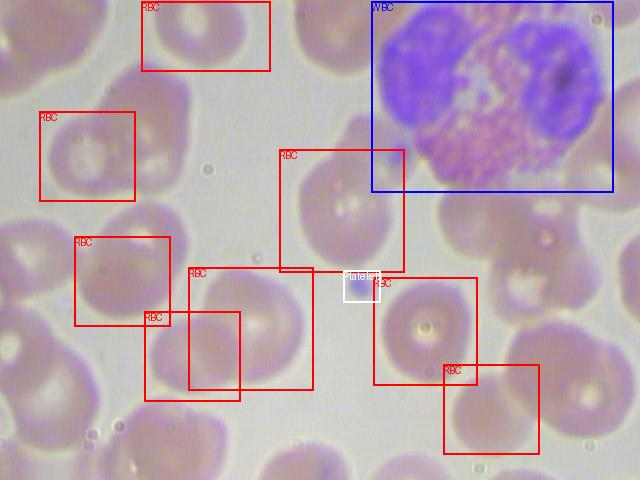Platelets: (343, 270, 380, 302)
RBC: (188, 267, 313, 390), (279, 149, 404, 272), (373, 277, 477, 385), (141, 1, 270, 71), (74, 236, 170, 326), (39, 111, 135, 201), (144, 311, 240, 401), (443, 364, 539, 454)
WBC: (371, 1, 613, 192)
